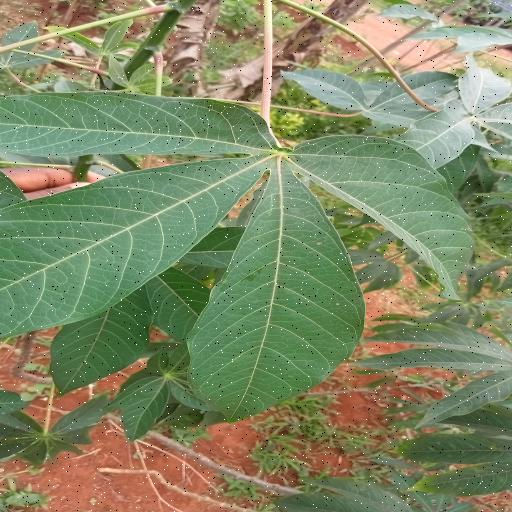Cassava_Healthy: (1, 88, 486, 432)
